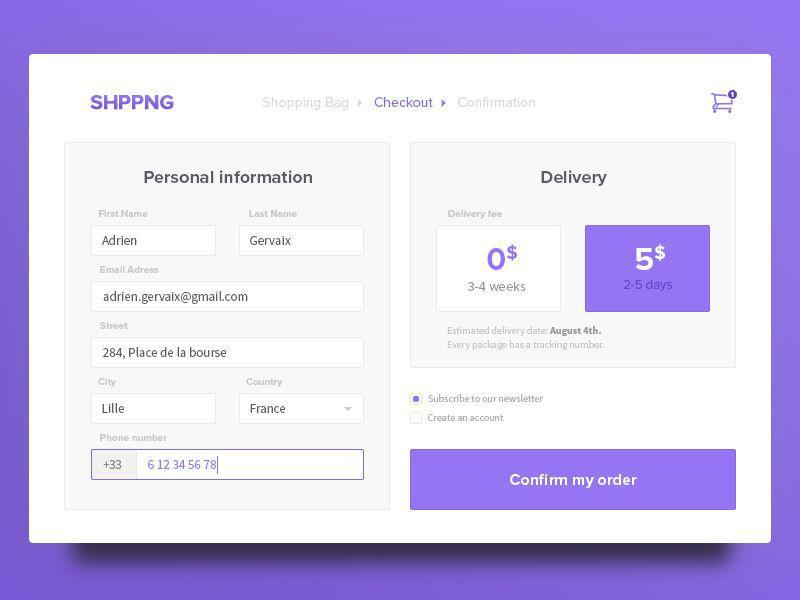button: (410, 449, 738, 511)
checkbox: (412, 413, 427, 430), (412, 394, 424, 407)
dropdown: (240, 393, 366, 426)
icon: (709, 89, 743, 118)
input: (92, 338, 366, 369), (93, 283, 365, 314), (92, 449, 364, 480), (92, 393, 216, 425), (240, 226, 366, 257), (92, 227, 217, 256)
label: (429, 392, 547, 407), (96, 434, 171, 447), (445, 207, 509, 222), (429, 413, 507, 425), (98, 207, 152, 222), (96, 264, 163, 276), (248, 208, 302, 222), (245, 376, 285, 389), (98, 323, 132, 330), (97, 376, 118, 387)
